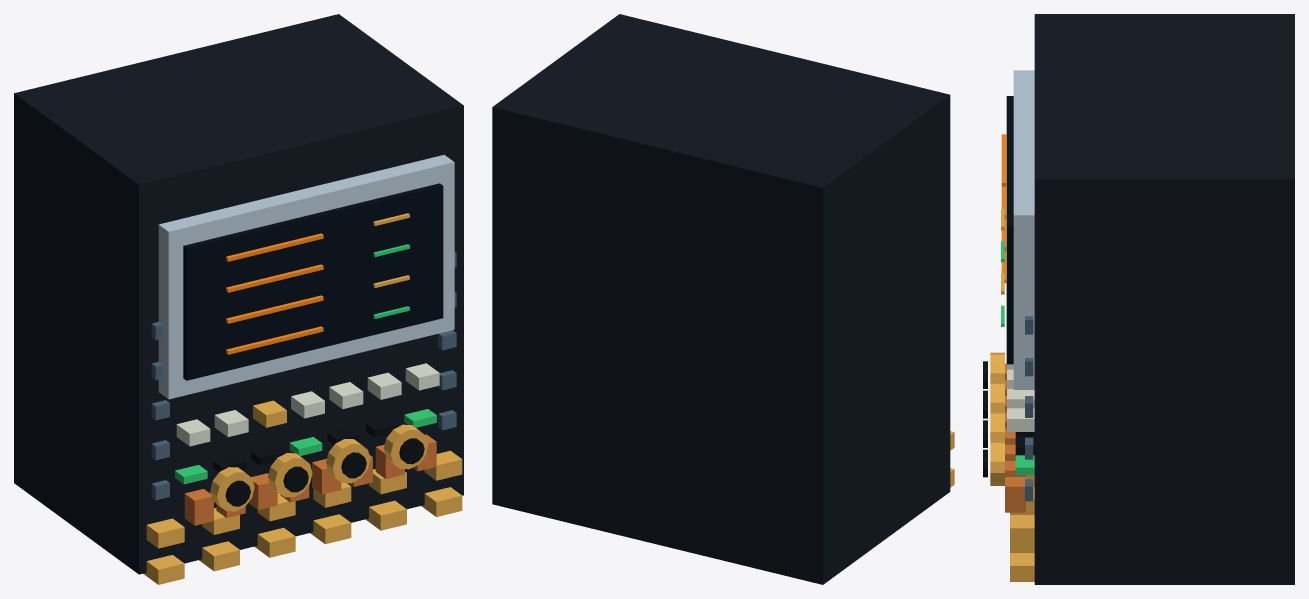
The model's file is 86_L92_LanderSafetyInterlockStation.fbx.
The picture shows the model from 3 angles, left to right: view 1: azimuth 30°, elevation 25°; view 2: azimuth 150°, elevation 25°; view 3: azimuth 270°, elevation 25°; orthographic projection. The views are drawn at different scales.
Parts seen in each view (by area): view 1: L92_LanderSafetyInterlockStation, L92_LanderSafetyInterlockStation_Part_0010, L92_LanderSafetyInterlockStation_Part_0012, L92_LanderSafetyInterlockStation_Part_0014, L92_LanderSafetyInterlockStation_Part_0016; view 2: L92_LanderSafetyInterlockStation; view 3: L92_LanderSafetyInterlockStation, L92_LanderSafetyInterlockStation_Part_0016, L92_LanderSafetyInterlockStation_Part_0010, L92_LanderSafetyInterlockStation_Part_0012, L92_LanderSafetyInterlockStation_Part_0014.
Part boxes in pixels (box(x1,y1,x2,y2)): L92_LanderSafetyInterlockStation: box(14, 14, 463, 584); L92_LanderSafetyInterlockStation_Part_0010: box(210, 467, 254, 511); L92_LanderSafetyInterlockStation_Part_0012: box(268, 453, 312, 497); L92_LanderSafetyInterlockStation_Part_0014: box(326, 439, 370, 483); L92_LanderSafetyInterlockStation_Part_0016: box(384, 424, 428, 469); L92_LanderSafetyInterlockStation: box(492, 14, 954, 584); L92_LanderSafetyInterlockStation: box(1001, 14, 1294, 584); L92_LanderSafetyInterlockStation_Part_0016: box(990, 441, 1004, 485); L92_LanderSafetyInterlockStation_Part_0010: box(990, 352, 1004, 381); L92_LanderSafetyInterlockStation_Part_0012: box(990, 382, 1004, 411); L92_LanderSafetyInterlockStation_Part_0014: box(990, 411, 1004, 440).
Bounding box in the file's own units: 112 × 130 × 89.6.
